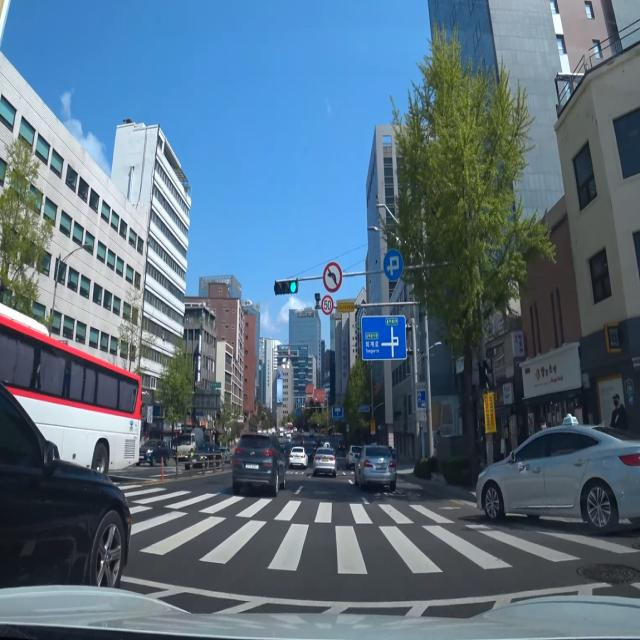Green Light: (290, 281, 298, 293)
